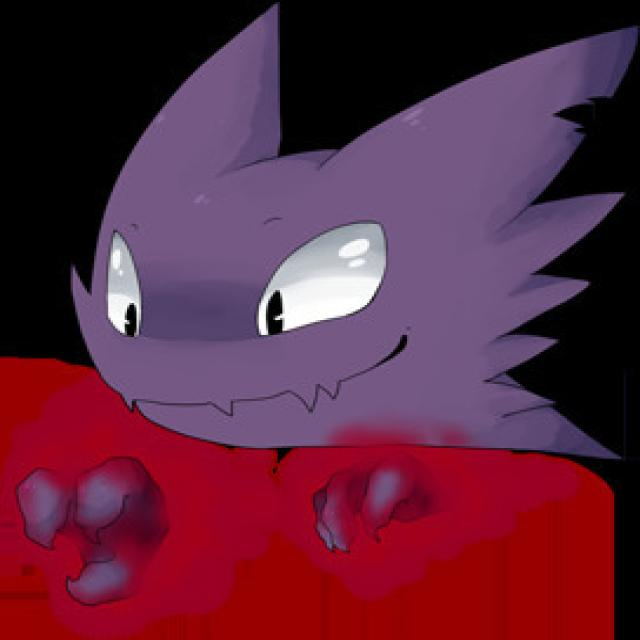Haunter: (59, 9, 628, 452)
